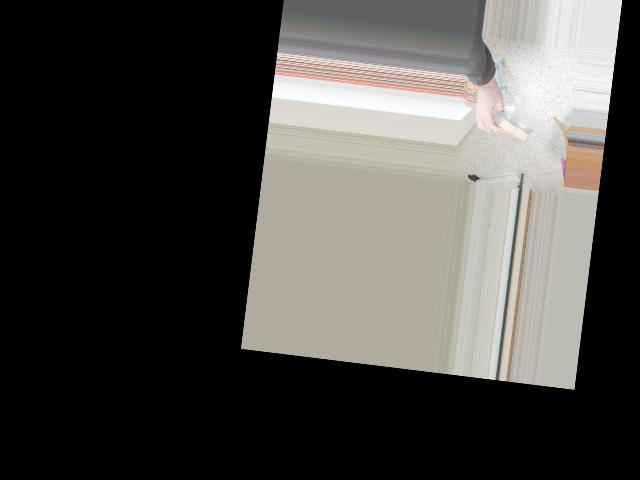cheese: (466, 95, 538, 157)
